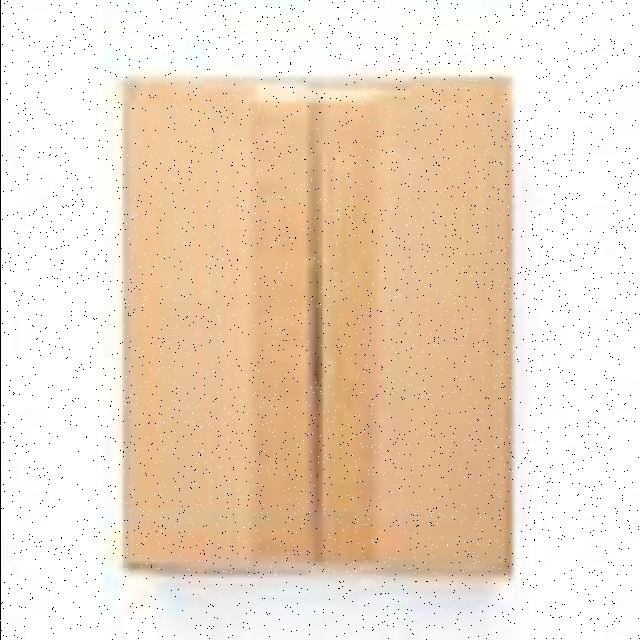normal: (117, 65, 520, 588)
